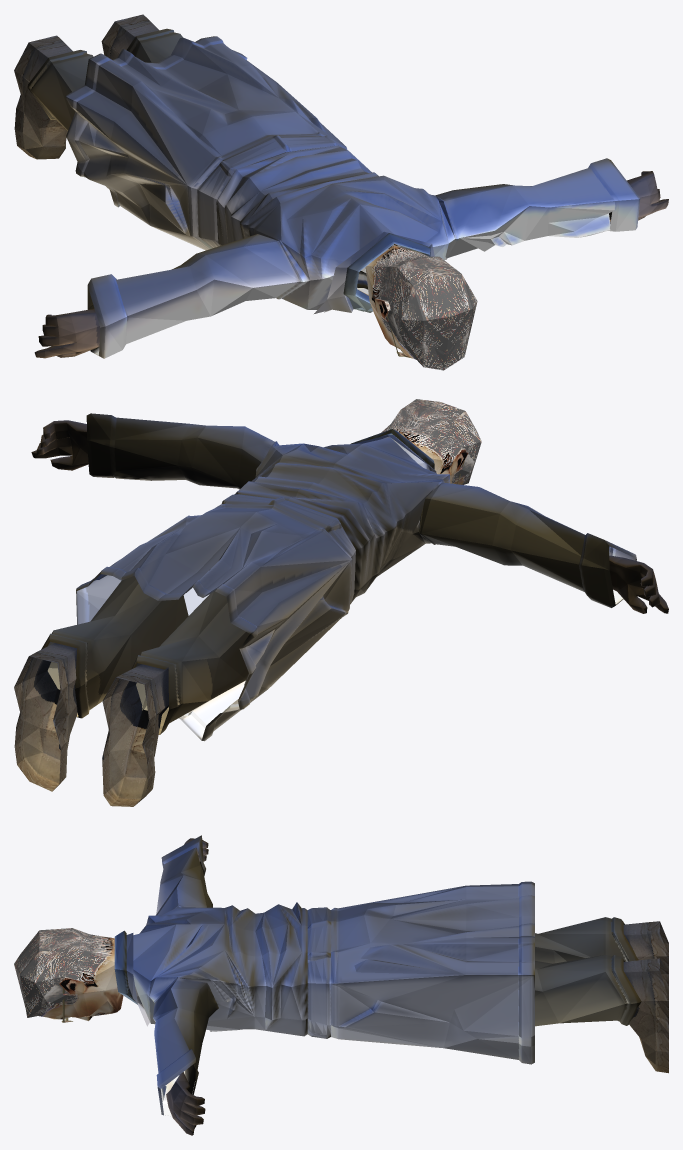
The model's file is scientistold_wtf.obj.
3 renders of one model, top to bottom at view 1: azimuth 30°, elevation 25°; view 2: azimuth 150°, elevation 25°; view 3: azimuth 270°, elevation 25°, orthographic. The views are drawn at different scales.
Parts seen in each view (by area): view 1: group1, group3, group2; view 2: group1, group2, group3; view 3: group1, group3, group2.
Boxes of the visible parts, x1,y1,x2,y2 form: group1: [28, 28, 668, 358]; group3: [360, 245, 477, 370]; group2: [14, 14, 159, 159]; group1: [31, 413, 668, 741]; group2: [14, 643, 168, 806]; group3: [381, 399, 481, 484]; group1: [114, 835, 641, 1135]; group3: [14, 928, 123, 1021]; group2: [623, 921, 668, 1073].
Bounding box in the file's own units: 651 × 163 × 660.
